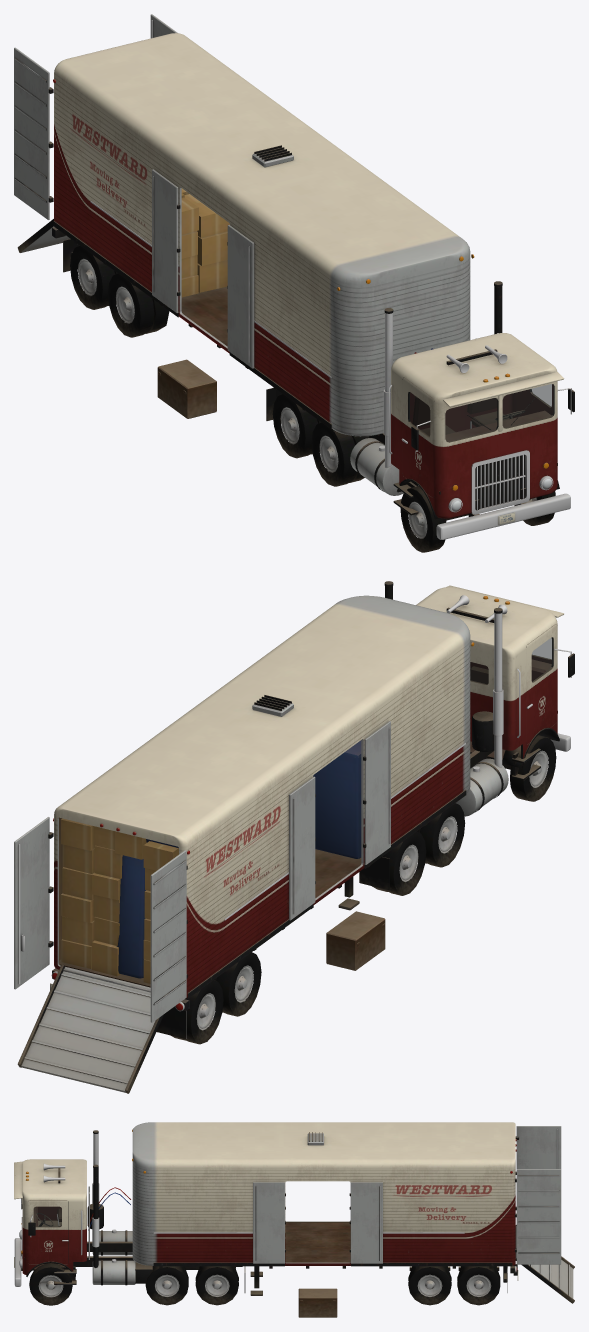
The model's file is nuketown_truck.glb.
3 views of the same model, one above another, from view 1: azimuth 30°, elevation 25°; view 2: azimuth 150°, elevation 25°; view 3: azimuth 270°, elevation 25° (orthographic). The views are drawn at different scales.
Parts seen in each view (by area): view 1: truck_C, truck_A, truck_glass; view 2: truck_C, truck_A, truck_glass; view 3: truck_C, truck_A, truck_glass.
Boxes of the visible parts, x1,y1,x2,y2 form: truck_C: (14,14,474,436); truck_A: (70,245,574,552); truck_glass: (409,384,554,441); truck_C: (14,595,474,1093); truck_A: (171,581,574,1044); truck_glass: (470,637,552,684); truck_C: (132,1122,574,1317); truck_A: (14,1130,500,1305); truck_glass: (34,1207,61,1226).
Size of the model in its own units: 3.65 by 4.08 by 13.77.
Materials: 3 (2 with a texture image).
